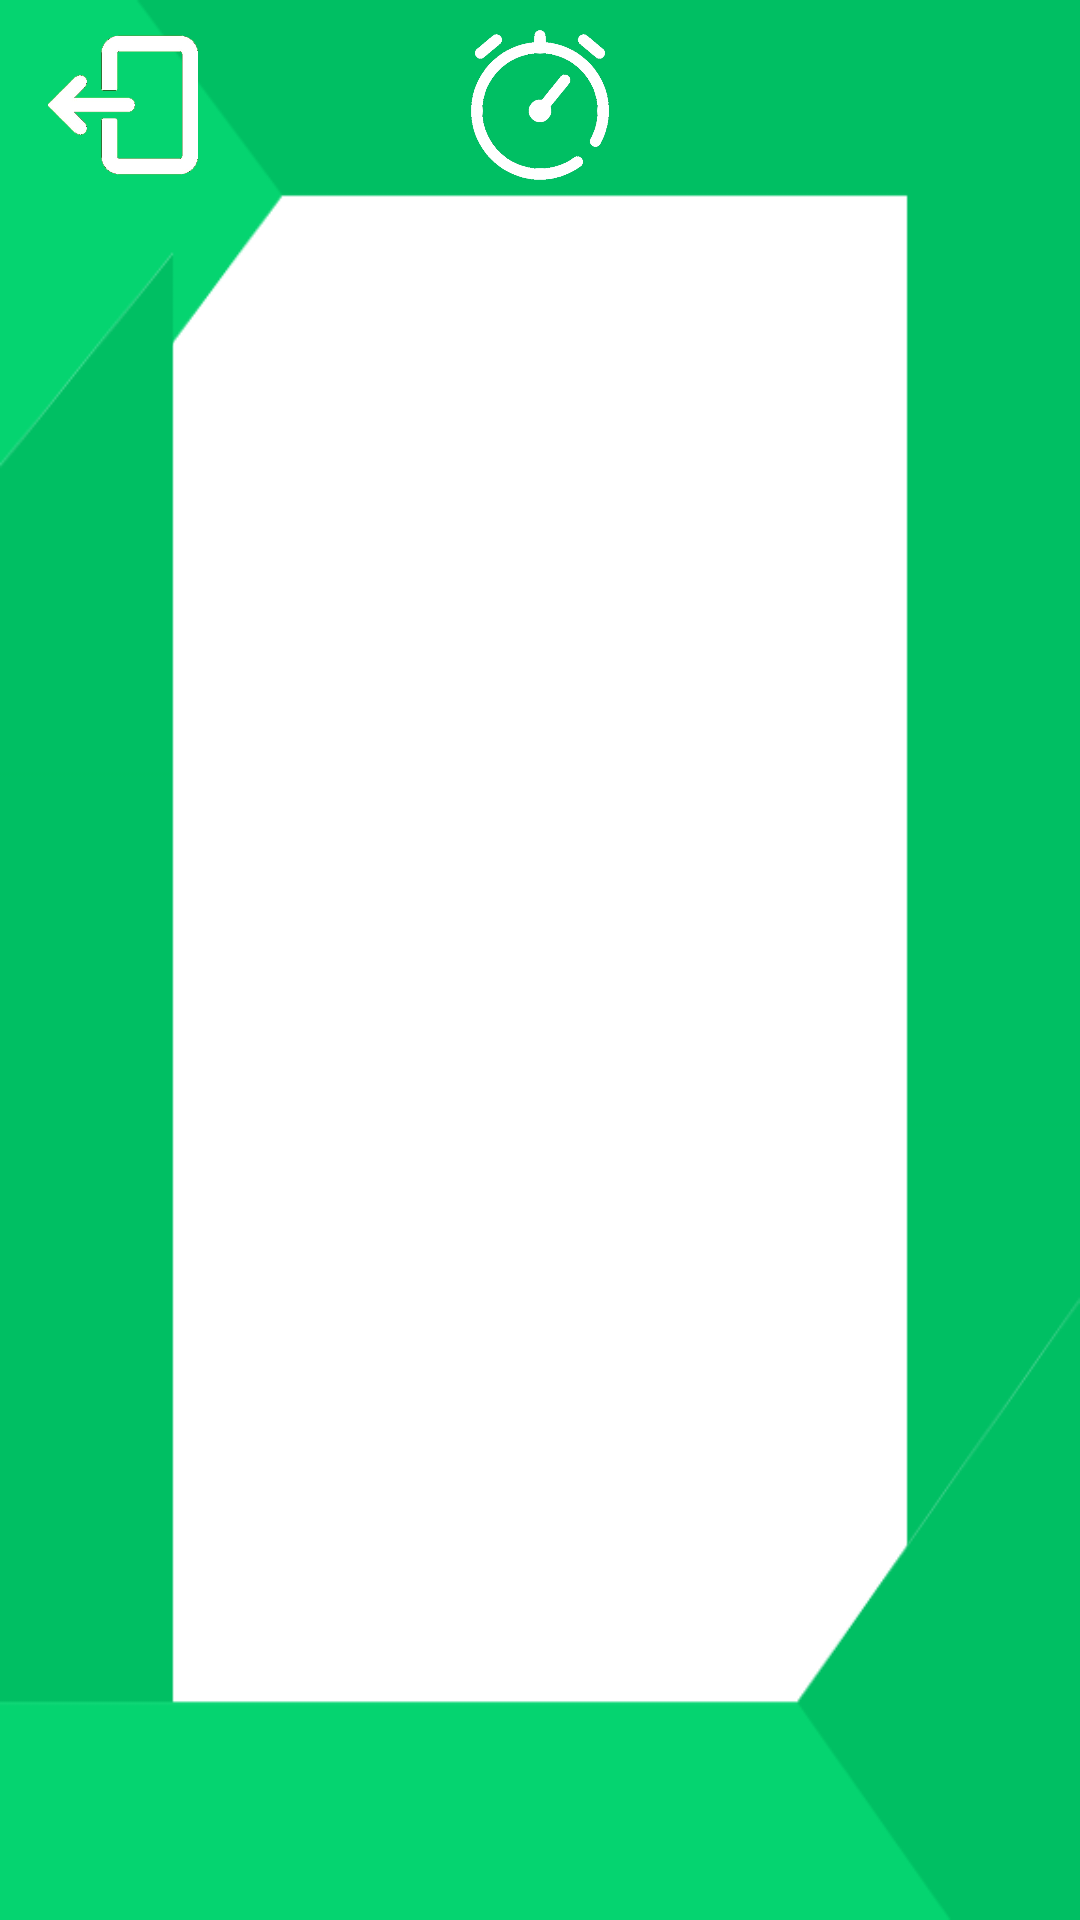

Named icons in this screenshot (1080 x 1920) and their centers, [x,y]:
stopwatch: [540,105]
